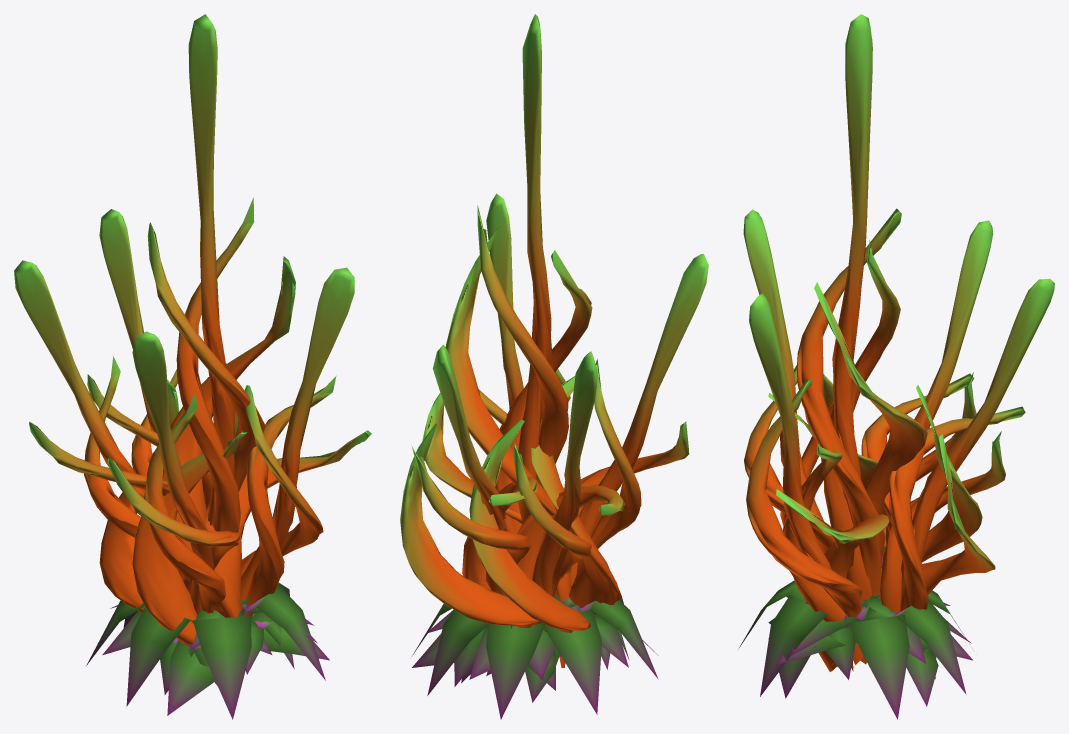
File: Orange_up3rd_1.fbx
3 renders of one model, left to right at view 1: azimuth 30°, elevation 25°; view 2: azimuth 150°, elevation 25°; view 3: azimuth 270°, elevation 25°, orthographic.
Parts seen in each view (by area): view 1: pPlane80; view 2: pPlane80; view 3: pPlane80.
Part boxes in pixels (left/top/right/bottom): pPlane80: left=14, top=14, right=371, bottom=719; pPlane80: left=400, top=14, right=708, bottom=719; pPlane80: left=739, top=14, right=1054, bottom=719.
Size of the model in its own units: 367 by 900 by 395.
